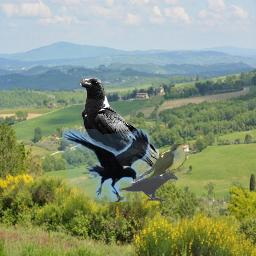Crow: (77, 76, 159, 180), (62, 129, 150, 202), (118, 171, 178, 201)
Cuckoo: (129, 143, 185, 183)
